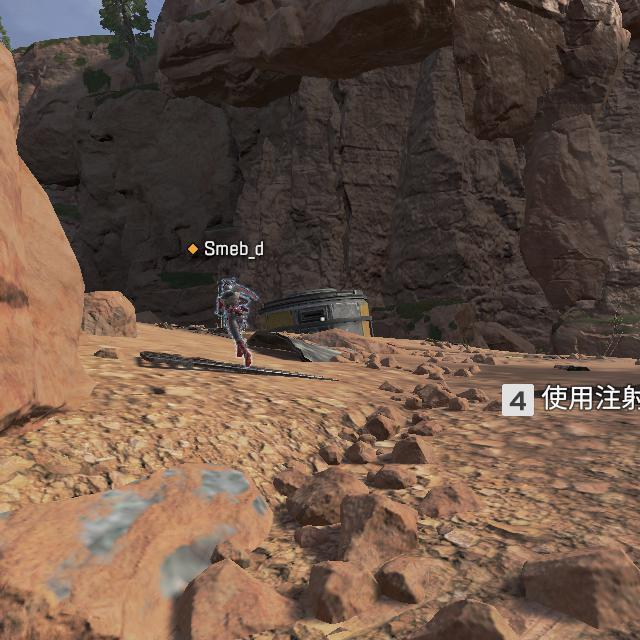avatar: (214, 276, 253, 369)
